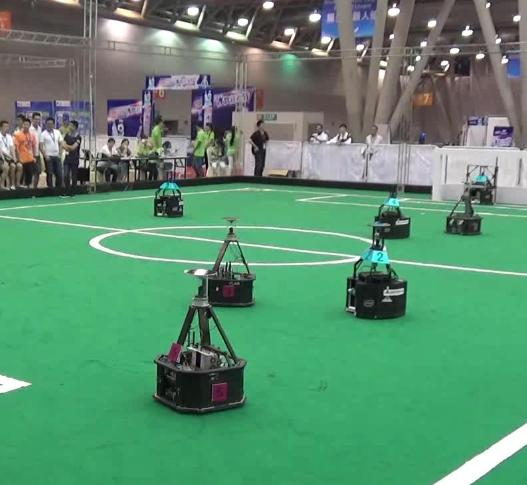robot: (149, 262, 252, 414), (338, 216, 413, 322), (198, 210, 258, 309)
